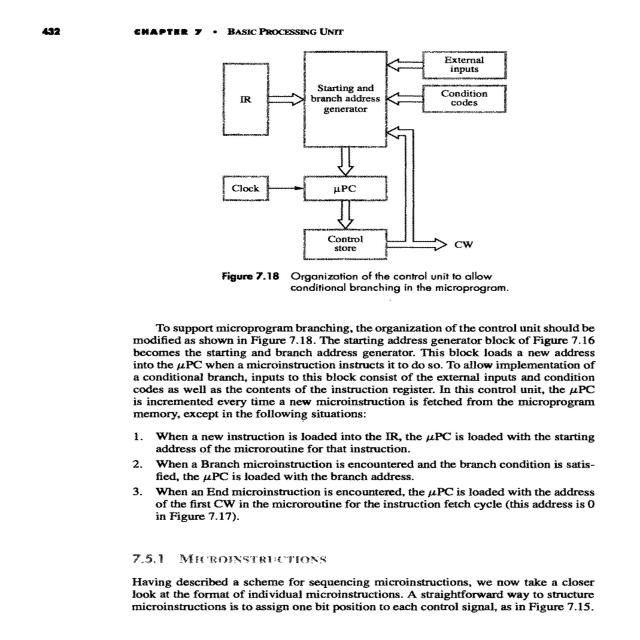diagram: (140, 41, 585, 306)
